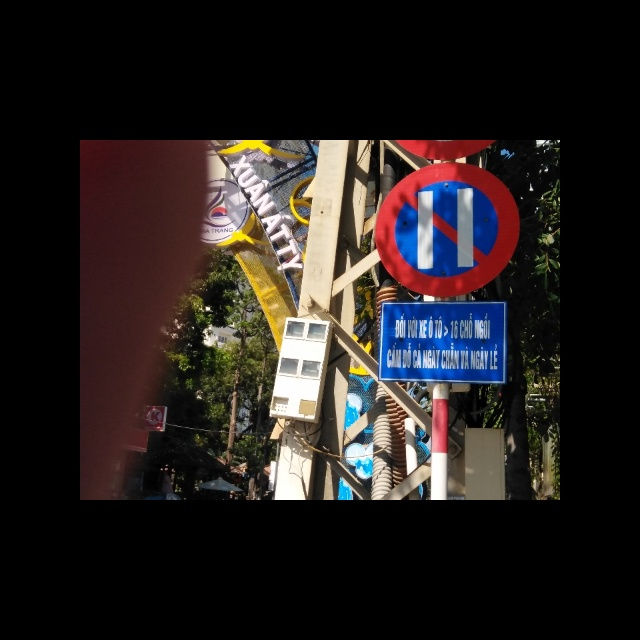Cấm đỗ xe ngày chẵn: (372, 164, 518, 304)
